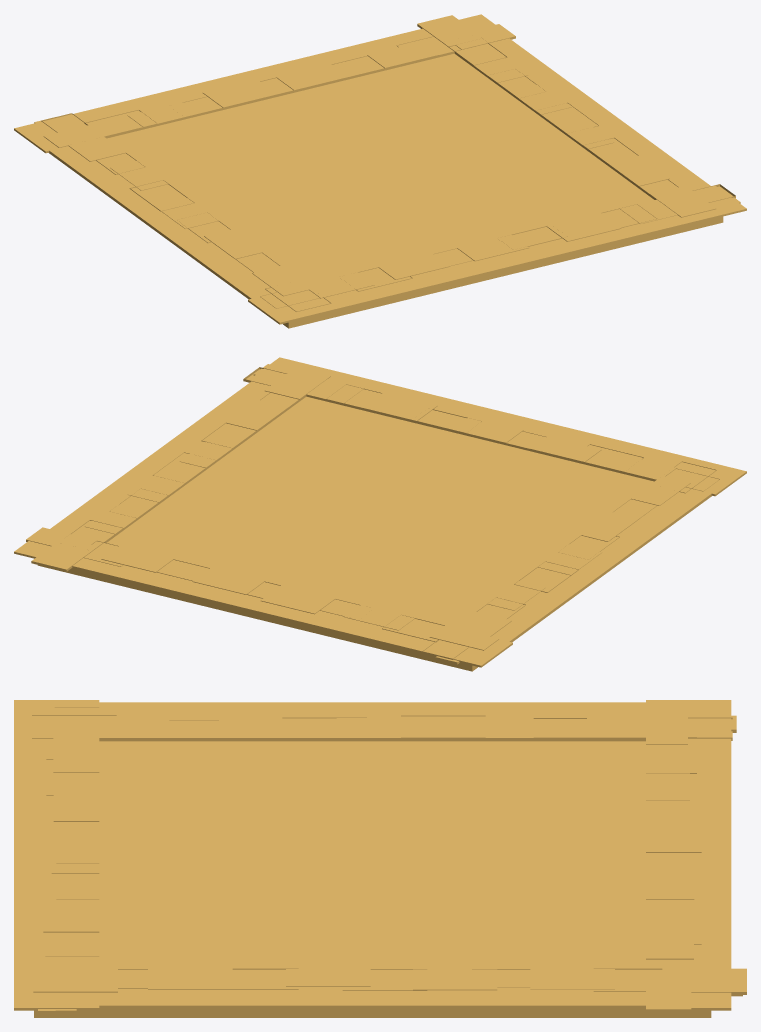
The model's file is island_sand.obj.
3 views of the same model, one above another, from view 1: azimuth 30°, elevation 25°; view 2: azimuth 150°, elevation 25°; view 3: azimuth 270°, elevation 25° (orthographic). The views are drawn at different scales.
Visible parts, largest first — view 1: island_sand; view 2: island_sand; view 3: island_sand.
Part boxes in pixels (x1,y1,x2,y2): island_sand: (14, 14, 746, 328); island_sand: (14, 357, 746, 671); island_sand: (14, 700, 746, 1017).
Bounding box in the file's own units: 259 × 8.35 × 257.
